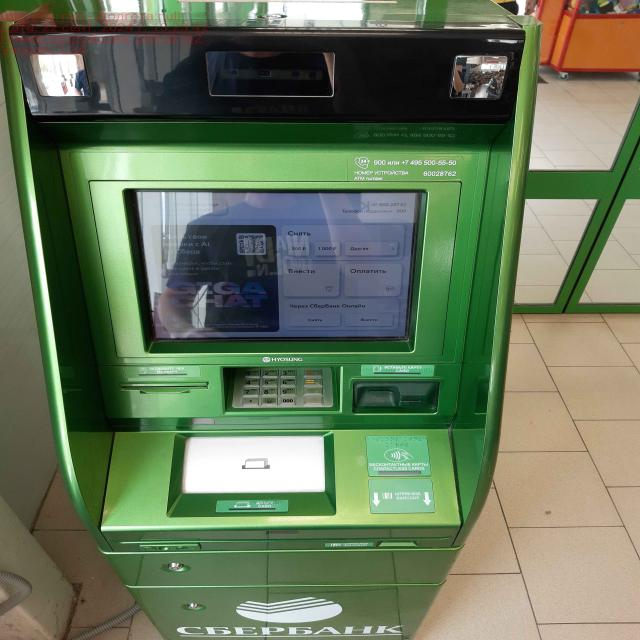bank: (0, 0, 537, 640)
